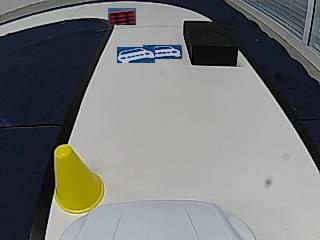block: (182, 21, 236, 66)
cone: (54, 145, 105, 212)
